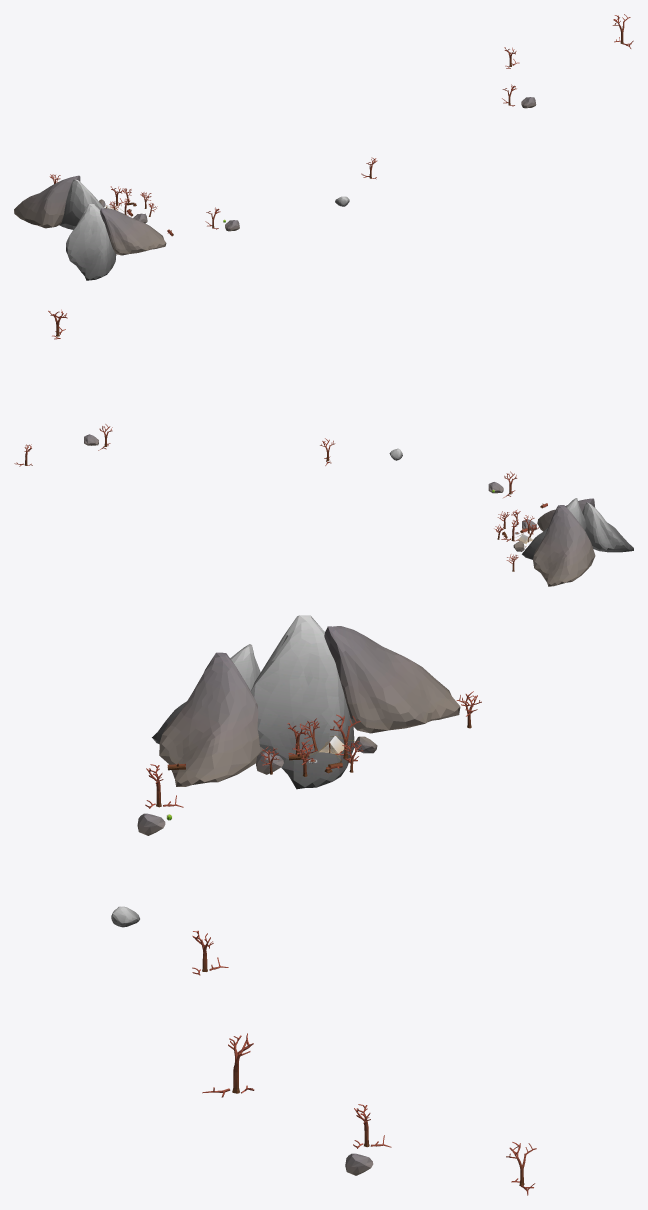
The picture shows the model from 3 angles, top to bottom: view 1: azimuth 30°, elevation 25°; view 2: azimuth 150°, elevation 25°; view 3: azimuth 270°, elevation 25°; orthographic projection. The views are drawn at different scales.
Parts seen in each view (by area): view 1: DoubleRockShape_High (2), DoubleRockShape_High (1); view 2: DoubleRockShape_High (1), DoubleRockShape_High (2); view 3: DoubleRockShape_High (1), DoubleRockShape_High (2).
Boxes of the visible parts, left/top/right/bottom form: DoubleRockShape_High (2): left=66, top=204, right=166, bottom=280; DoubleRockShape_High (1): left=14, top=175, right=104, bottom=229; DoubleRockShape_High (1): left=522, top=498, right=595, bottom=586; DoubleRockShape_High (2): left=537, top=498, right=633, bottom=552; DoubleRockShape_High (1): left=251, top=615, right=460, bottom=789; DoubleRockShape_High (2): left=152, top=644, right=266, bottom=786.
Bounding box in the file's own units: 205 × 40.64 × 66.42.
Materials: 1 (1 with a texture image).
